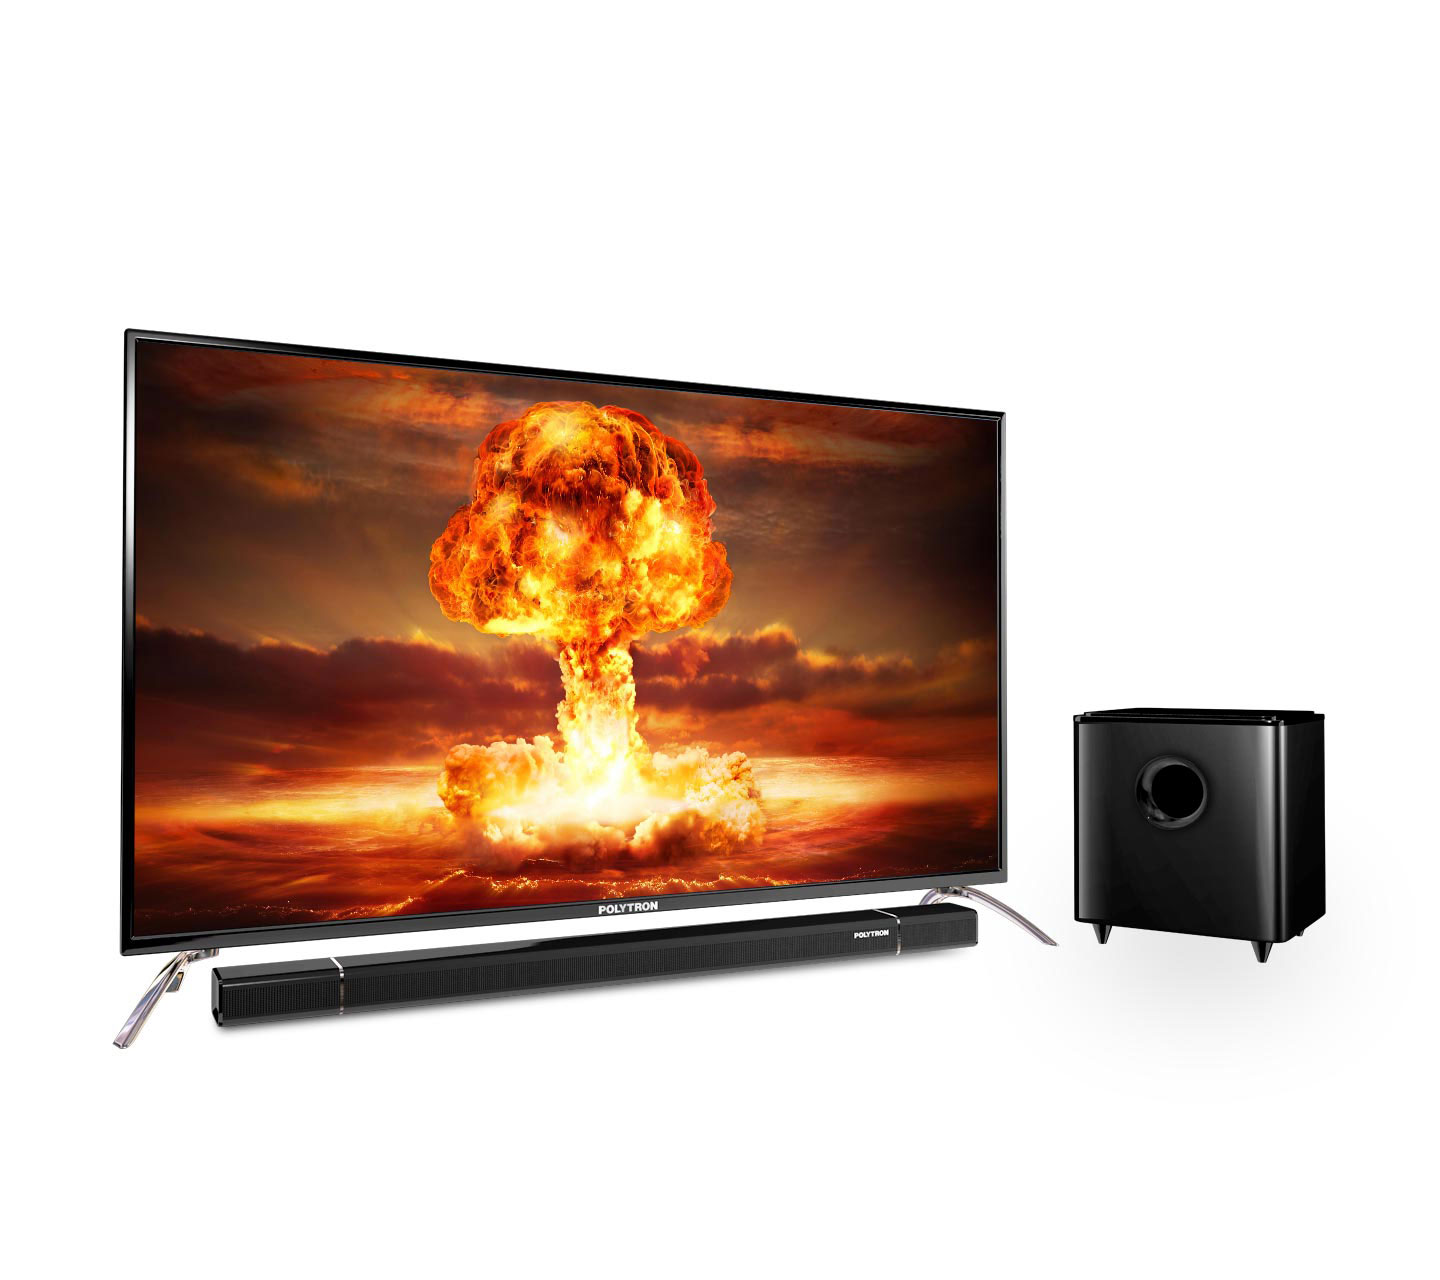tv: (56, 315, 1074, 1014)
